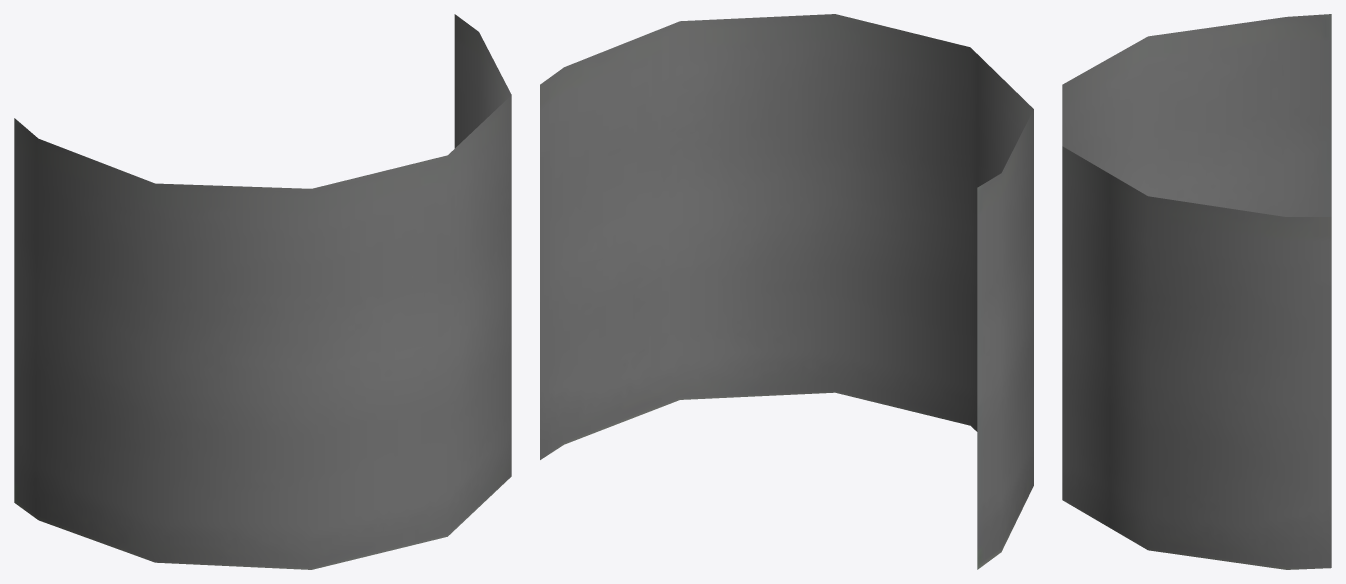
The model's file is pref_sm_city_bornbus01zy01_snow_lv3.fbx.
3 views of the same model, side by side, from view 1: azimuth 30°, elevation 25°; view 2: azimuth 150°, elevation 25°; view 3: azimuth 270°, elevation 25° (orthographic). The views are drawn at different scales.
Parts seen in each view (by area): view 1: pref_sm_city_bornbus01zy01_snow_lv3; view 2: pref_sm_city_bornbus01zy01_snow_lv3; view 3: pref_sm_city_bornbus01zy01_snow_lv3.
Boxes of the visible parts, bbox=[...] form: pref_sm_city_bornbus01zy01_snow_lv3: bbox=[14, 14, 511, 569]; pref_sm_city_bornbus01zy01_snow_lv3: bbox=[540, 14, 1033, 569]; pref_sm_city_bornbus01zy01_snow_lv3: bbox=[1062, 14, 1331, 569].
Size of the model in its own units: 1.69 by 1.41 by 0.9658.
